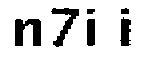7: (47, 4, 79, 49)
i: (115, 3, 139, 50), (82, 6, 100, 49)
n: (13, 17, 44, 52)
